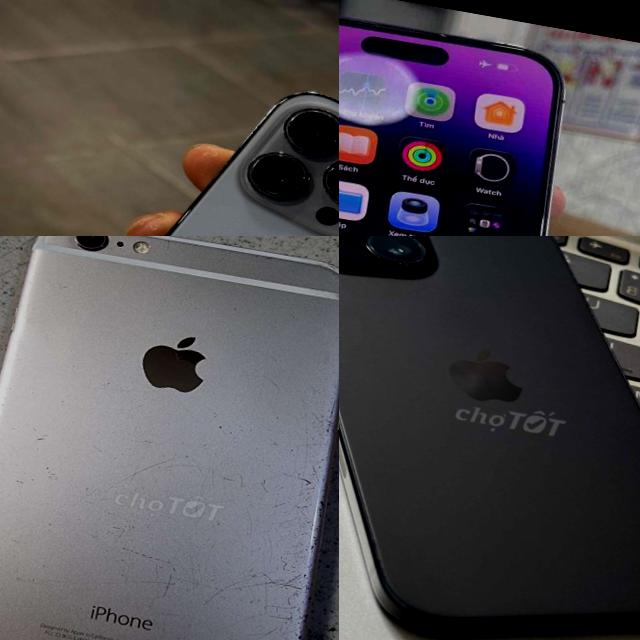scratch: (175, 330, 339, 640), (88, 488, 226, 628), (0, 462, 31, 640)
